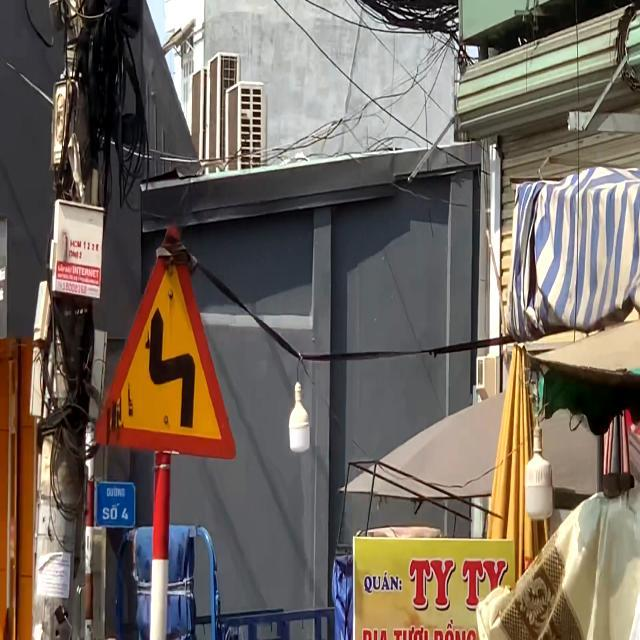W-202a: (94, 218, 236, 461)
